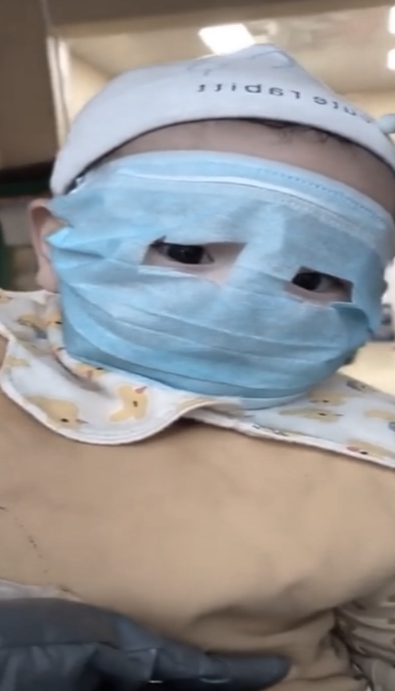mask_weared_incorrect: (23, 47, 394, 402)
